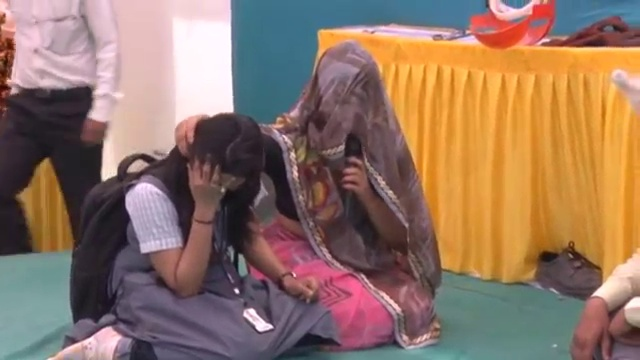helmet_off: (303, 39, 390, 145), (171, 118, 263, 187)
person: (48, 107, 338, 359), (264, 39, 442, 352), (0, 0, 127, 256), (568, 246, 638, 360)
